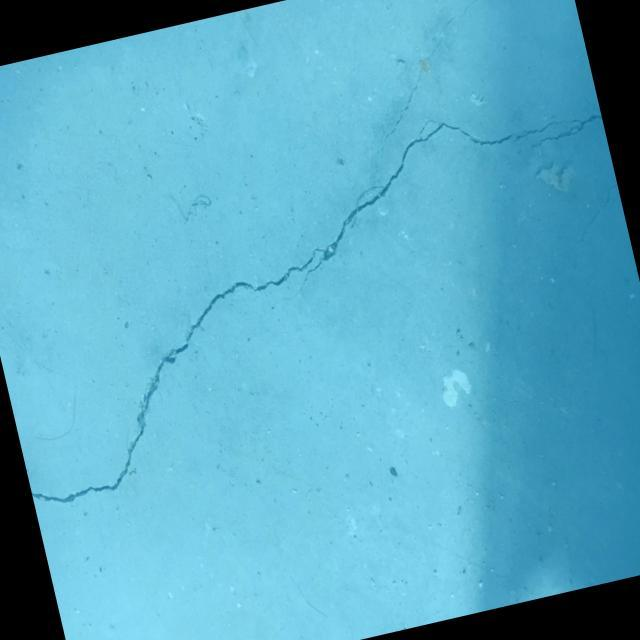crack: (0, 79, 640, 510), (350, 0, 551, 151), (586, 184, 624, 221)
